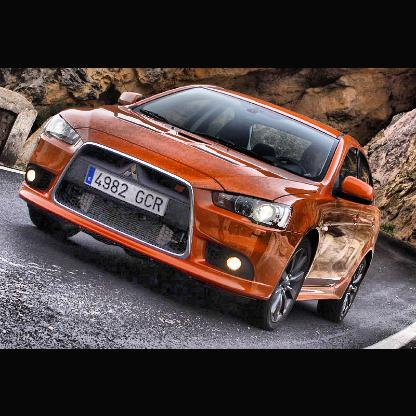Mitsubishi Lancer Sedan 2012: (18, 83, 380, 334)
